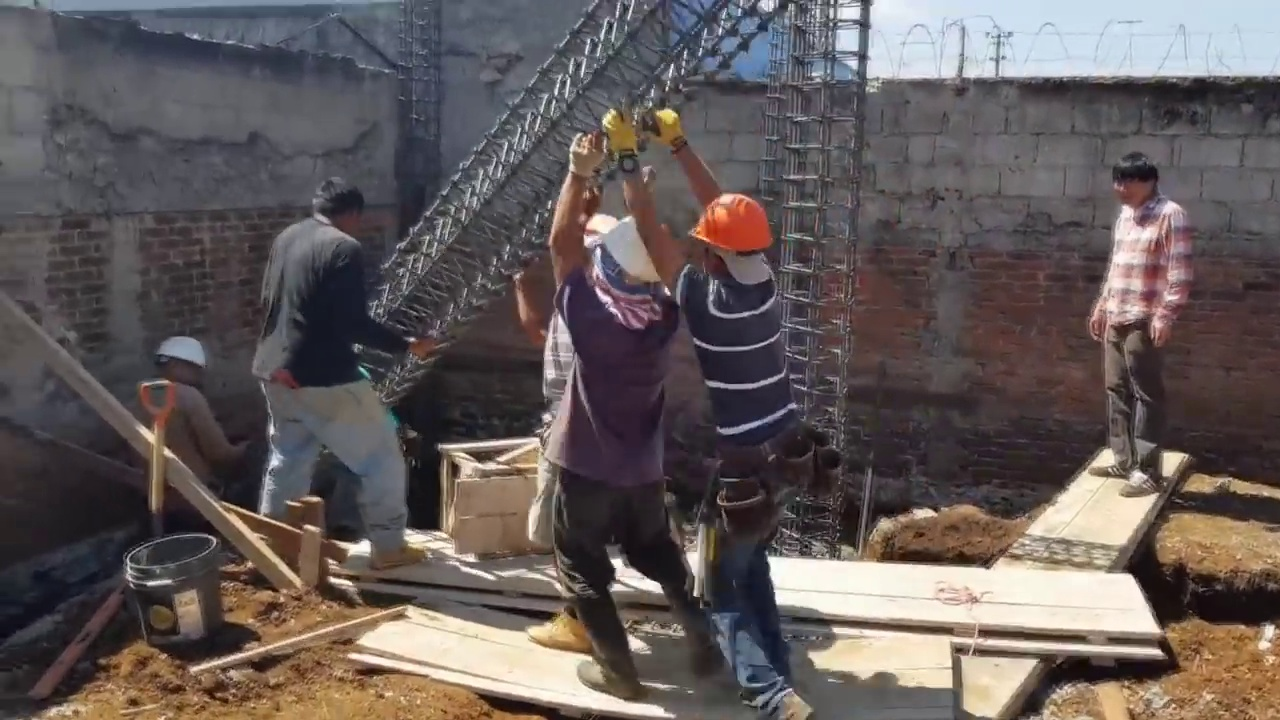helmet: (688, 192, 774, 257), (598, 216, 670, 289), (149, 335, 209, 367)
helmet-off: (311, 181, 373, 241), (1119, 153, 1169, 211)
helmet-on: (685, 182, 784, 298), (584, 216, 672, 323), (150, 337, 205, 393)
person: (538, 135, 718, 700), (679, 156, 813, 720), (262, 173, 415, 578), (1094, 157, 1194, 515), (126, 336, 245, 513)
